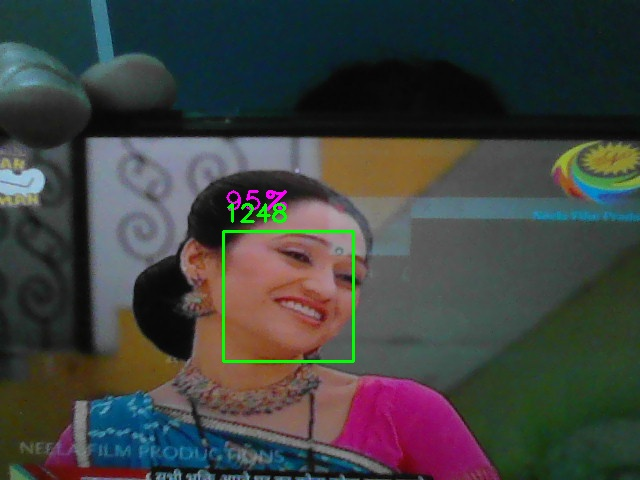fake: (223, 231, 354, 362)
